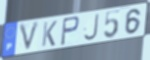5: (103, 8, 123, 40)
6: (125, 8, 143, 36)
J: (83, 13, 101, 42)
K: (41, 20, 58, 48)
P: (60, 15, 81, 47)
V: (18, 20, 41, 54)
